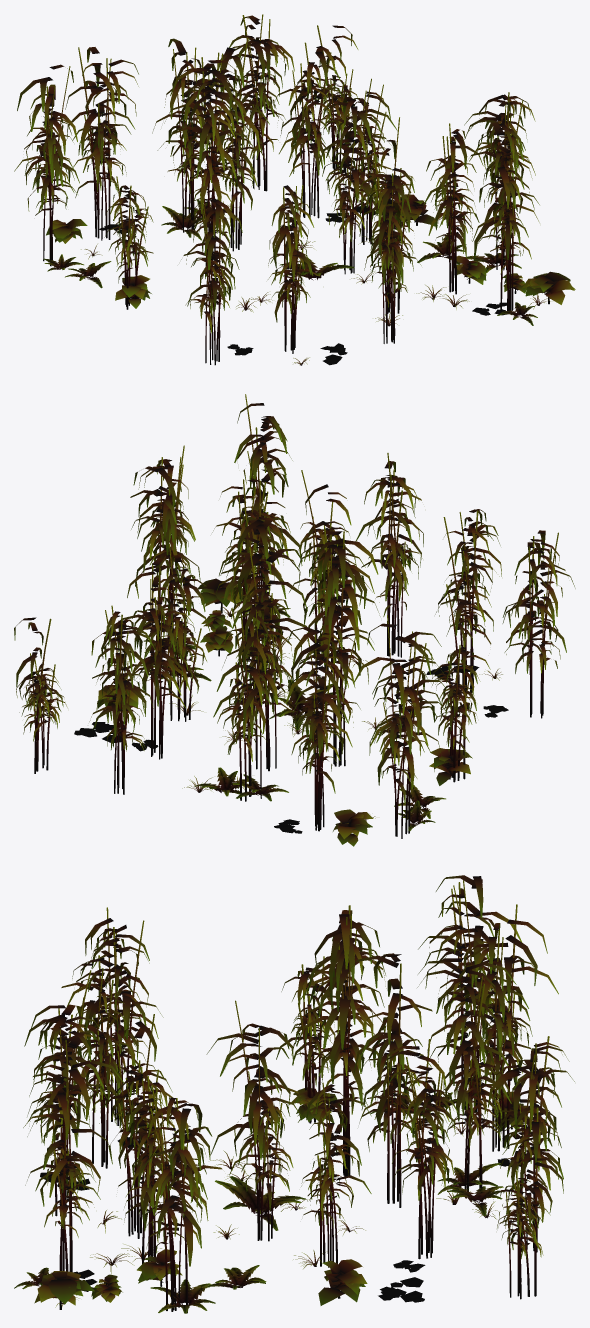
File: patch_bamboo_wall.glb
3 renders of one model, top to bottom at view 1: azimuth 30°, elevation 25°; view 2: azimuth 150°, elevation 25°; view 3: azimuth 270°, elevation 25°, orthographic. The views are drawn at different scales.
Parts seen in each view (by area): view 1: patch_bamboo_wall; view 2: patch_bamboo_wall; view 3: patch_bamboo_wall.
Part boxes in pixels (x1,y1,x2,y2): patch_bamboo_wall: (14, 14, 575, 365); patch_bamboo_wall: (14, 394, 575, 846); patch_bamboo_wall: (14, 875, 574, 1313).
Bounding box in the file's own units: 17.73 × 9.41 × 17.84.
Materials: 1 (1 with a texture image).
